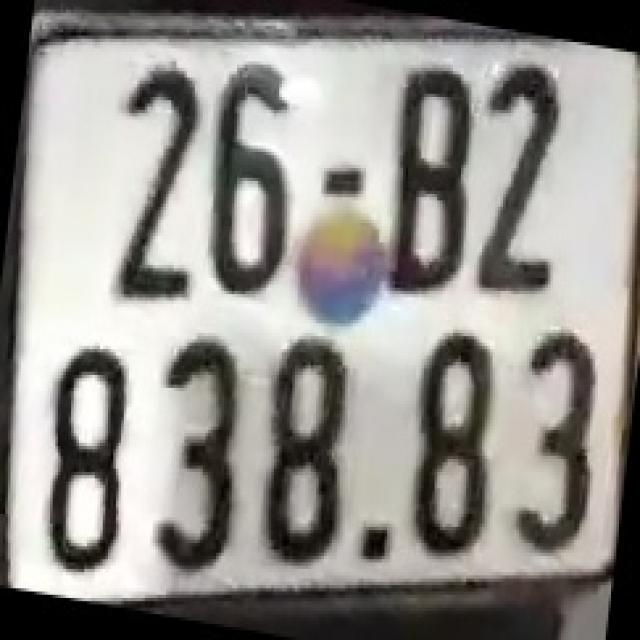2: (113, 64, 198, 300), (478, 60, 562, 296)
3: (513, 325, 598, 551), (157, 334, 238, 570)
6: (208, 60, 292, 296)
8: (262, 333, 349, 566), (411, 323, 495, 556), (47, 343, 126, 572)
B: (383, 63, 473, 299)
